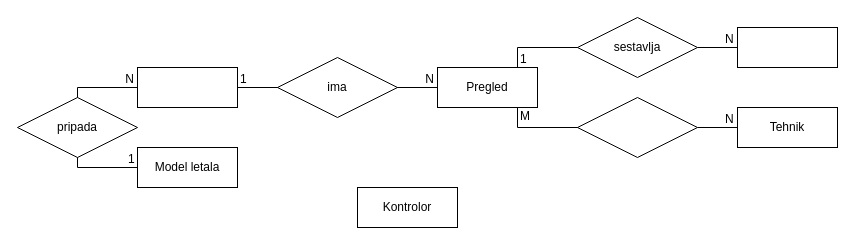
The diagram is 855 pixels wide and 245 high, and some of its shapes have lost their labels. The shapes that lost their labels are listed below. From the top down, each one's centre as x and y in pixels, then its label:
At pixel 787 47: "Test".
At pixel 187 87: "Letalo".
At pixel 637 127: "opravi".
